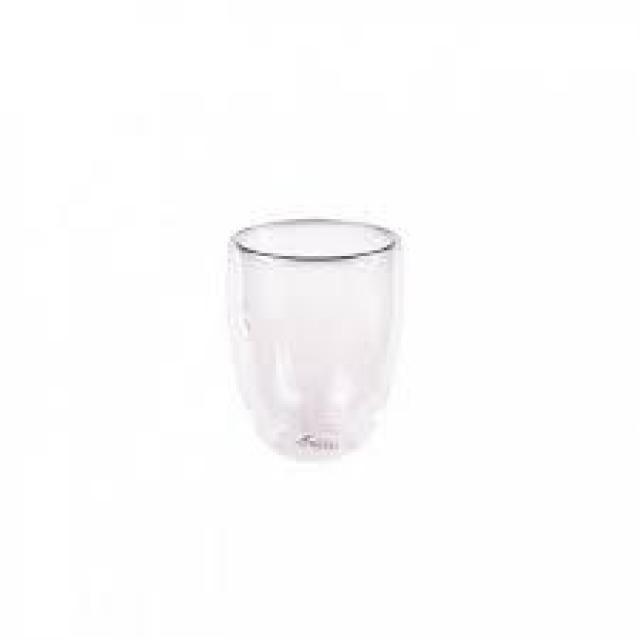Glass: (228, 216, 406, 464)
